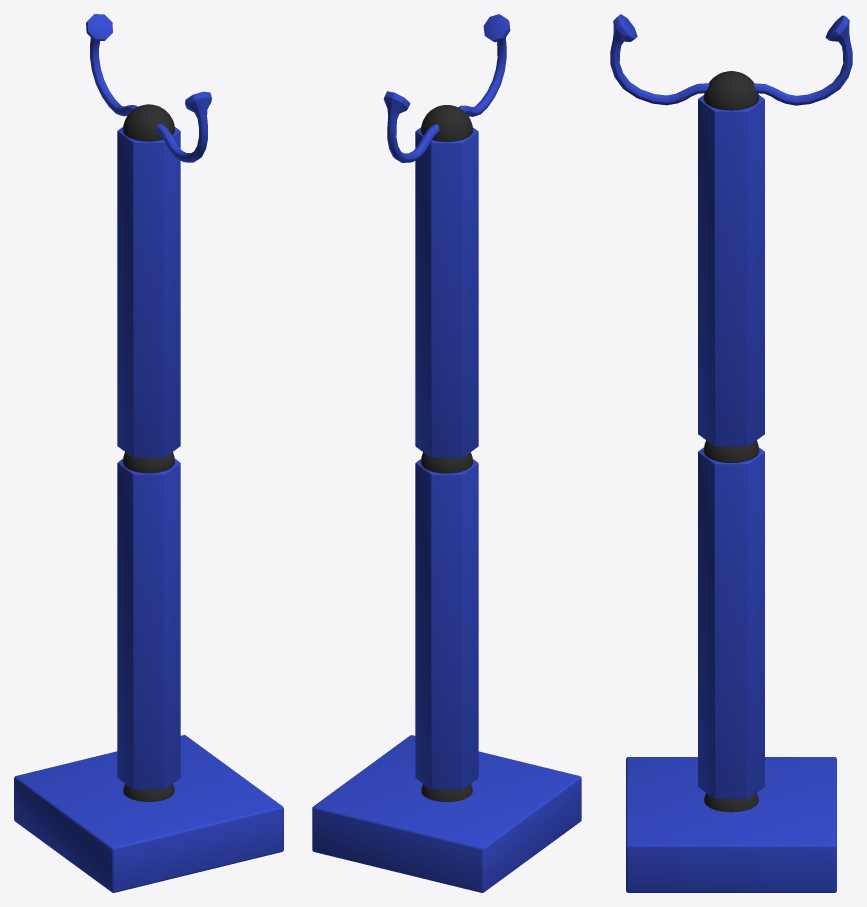
Rendered from robot_arm_blue.fbx.
3 views of the same model, side by side, from view 1: azimuth 30°, elevation 25°; view 2: azimuth 150°, elevation 25°; view 3: azimuth 270°, elevation 25° (orthographic). The views are drawn at different scales.
Visible parts, largest first — view 1: base, Cylinder.002, Cylinder, gripper r, gripper l, wrist, elbow, shoulder; view 2: base, Cylinder.002, Cylinder, gripper l, gripper r, wrist, elbow, shoulder; view 3: base, Cylinder, Cylinder.002, gripper l, gripper r, wrist, elbow, shoulder.
Boxes of the visible parts, x1=… form: base: x1=14, y1=735, x2=283, y2=892; Cylinder.002: x1=117, y1=459, x2=180, y2=789; Cylinder: x1=117, y1=127, x2=180, y2=457; gripper r: x1=86, y1=14, x2=137, y2=116; gripper l: x1=156, y1=91, x2=211, y2=162; wrist: x1=123, y1=104, x2=174, y2=141; elbow: x1=123, y1=452, x2=174, y2=473; shoulder: x1=123, y1=784, x2=174, y2=801; base: x1=312, y1=735, x2=581, y2=892; Cylinder.002: x1=415, y1=459, x2=478, y2=789; Cylinder: x1=415, y1=127, x2=478, y2=457; gripper l: x1=458, y1=14, x2=510, y2=116; gripper r: x1=383, y1=91, x2=439, y2=162; wrist: x1=421, y1=105, x2=472, y2=141; elbow: x1=421, y1=452, x2=472, y2=473; shoulder: x1=421, y1=784, x2=472, y2=801; base: x1=626, y1=757, x2=836, y2=892; Cylinder: x1=698, y1=95, x2=764, y2=446; Cylinder.002: x1=698, y1=447, x2=764, y2=798; gripper l: x1=610, y1=14, x2=709, y2=105; gripper r: x1=753, y1=15, x2=852, y2=105; wrist: x1=703, y1=71, x2=759, y2=110; elbow: x1=703, y1=440, x2=759, y2=462; shoulder: x1=704, y1=793, x2=758, y2=812.
Bounding box in the file's own units: 10.26 × 44.66 × 11.79.
